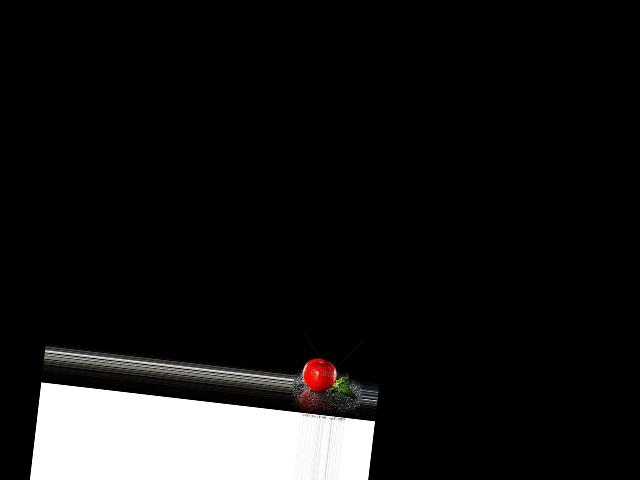tomato: (301, 356, 338, 392)
